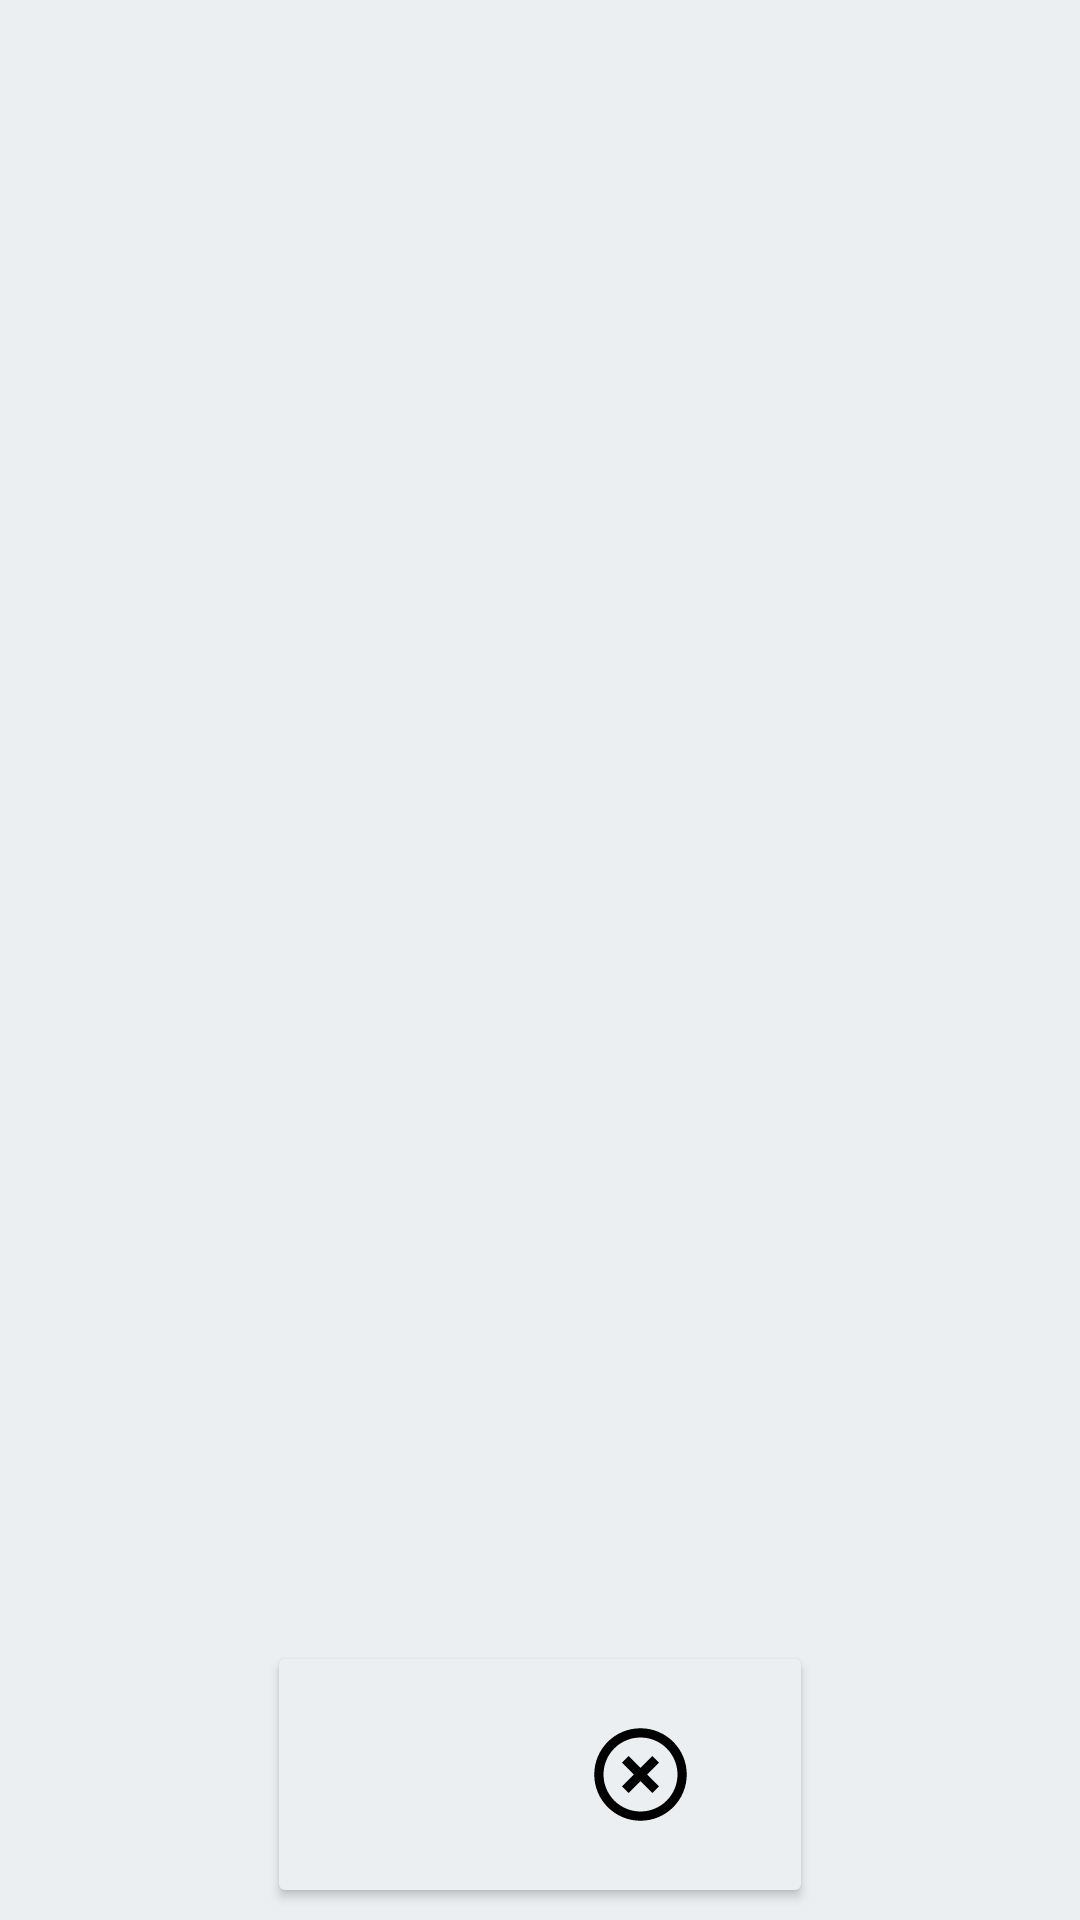

Named icons in this screenshot (1080px×1920px) and their centers, [x,y]:
finish: [640,1774]
